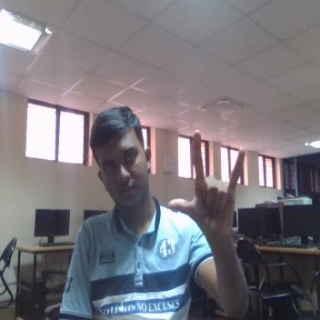Face: (89, 107, 153, 209)
I Love You: (167, 128, 247, 240)
